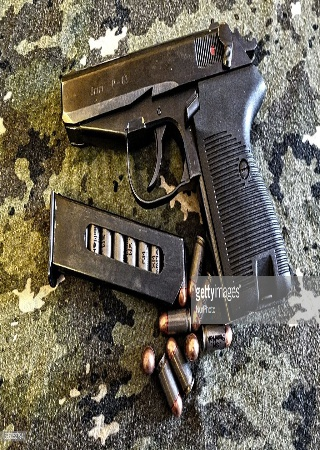handgun: (60, 15, 293, 309)
